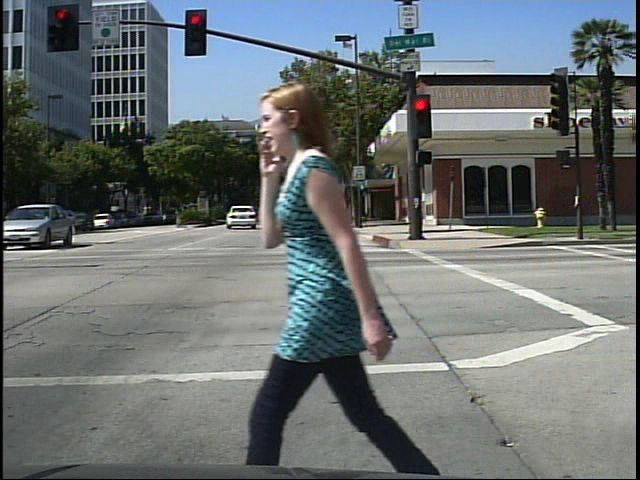person: (256, 71, 445, 480)
